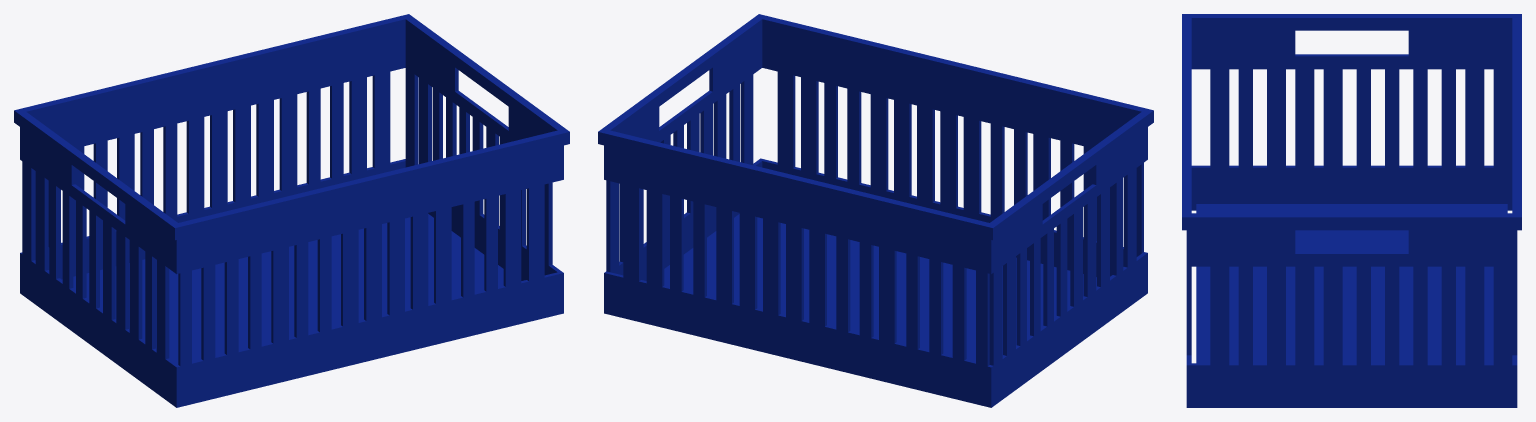
Rendered from basket_laundry.glb.
3 views of the same model, side by side, from view 1: azimuth 30°, elevation 25°; view 2: azimuth 150°, elevation 25°; view 3: azimuth 270°, elevation 25° (orthographic). The views are drawn at different scales.
Parts seen in each view (by area): view 1: basket_laundry:compound; view 2: basket_laundry:compound; view 3: basket_laundry:compound.
Part boxes in pixels (x1,y1,x2,y2): basket_laundry:compound: [14, 14, 569, 407]; basket_laundry:compound: [598, 14, 1153, 407]; basket_laundry:compound: [1182, 14, 1521, 407].
Bounding box in the file's own units: 0.612 × 0.27 × 0.432.
